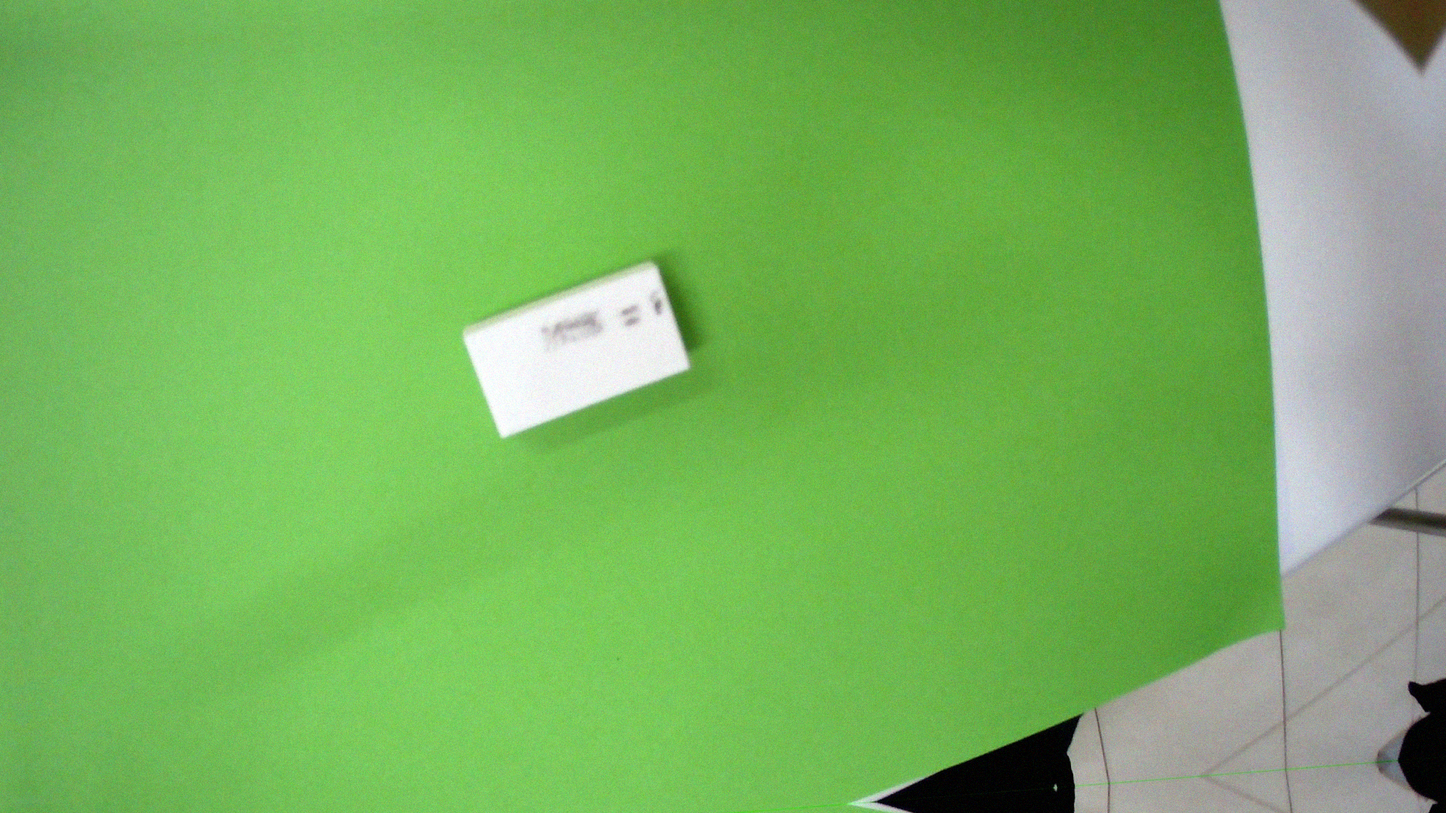gom: (456, 254, 707, 440)
